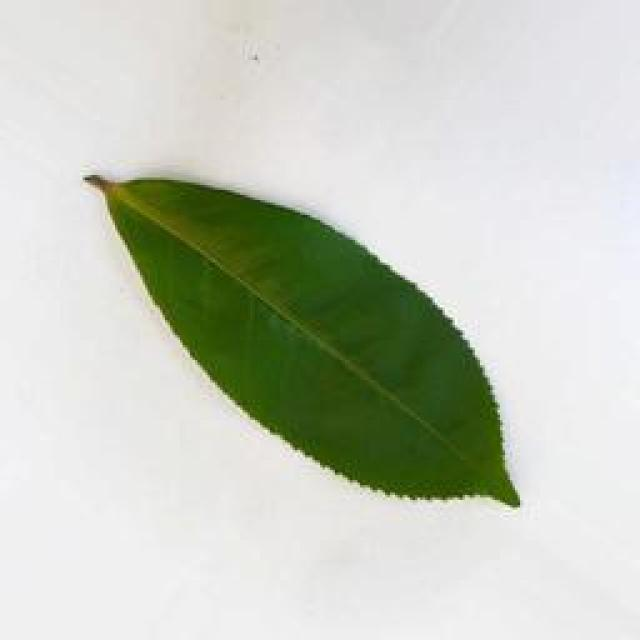Healthy: (84, 170, 522, 518)
